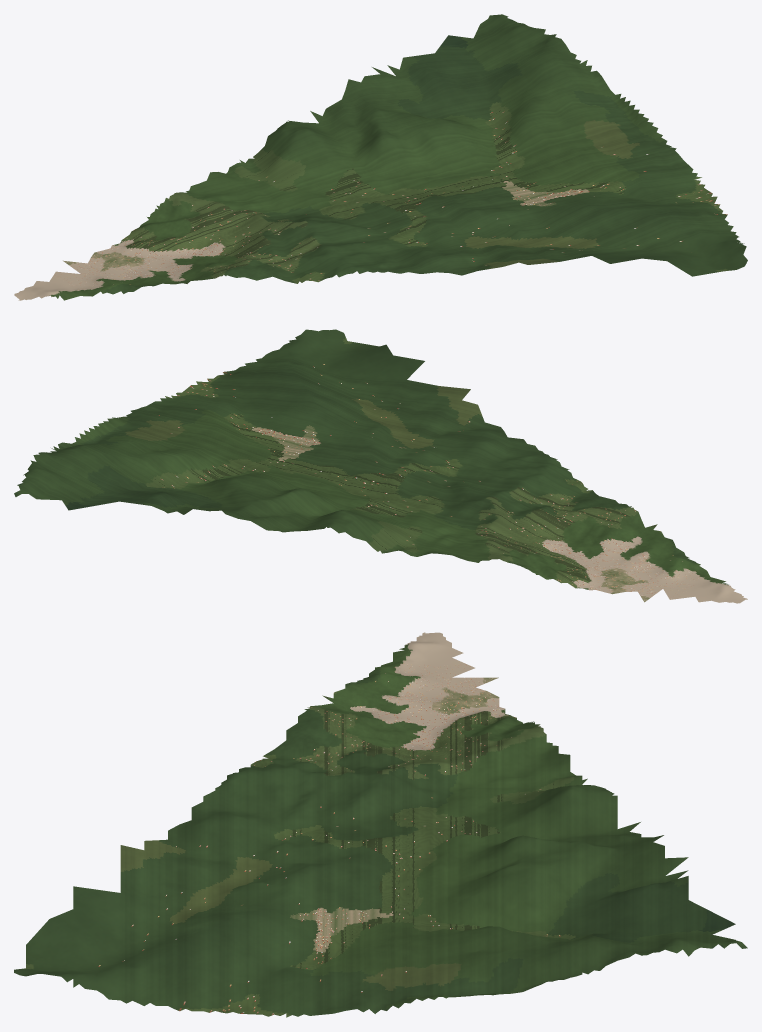
The model's file is SM_Fondale_Colline_NO.fbx.
3 renders of one model, top to bottom at view 1: azimuth 30°, elevation 25°; view 2: azimuth 150°, elevation 25°; view 3: azimuth 270°, elevation 25°, orthographic. The views are drawn at different scales.
Visible parts, largest first — view 1: SM_Fondale_Colline_NO; view 2: SM_Fondale_Colline_NO; view 3: SM_Fondale_Colline_NO.
Part boxes in pixels (left/top/right/bottom): SM_Fondale_Colline_NO: left=14, top=14, right=747, bottom=300; SM_Fondale_Colline_NO: left=14, top=329, right=747, bottom=603; SM_Fondale_Colline_NO: left=14, top=632, right=747, bottom=1017.
Bounding box in the file's own units: 957000 × 744000 × 78027.
Materials: 1 (1 with a texture image).
